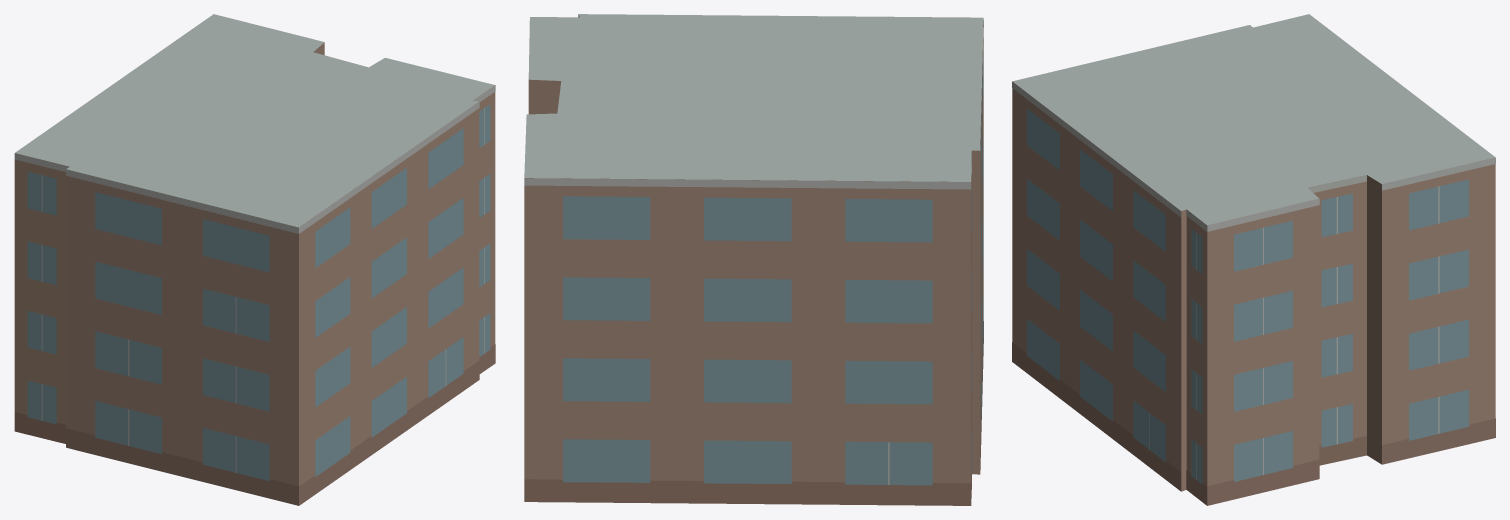
File: survey-upis-32714509.glb
3 views of the same model, side by side, from view 1: azimuth 30°, elevation 25°; view 2: azimuth 150°, elevation 25°; view 3: azimuth 270°, elevation 25° (orthographic). The views are drawn at different scales.
Visible parts, largest first — view 1: survey-upis-32714509.tmp; view 2: survey-upis-32714509.tmp; view 3: survey-upis-32714509.tmp.
Boxes of the visible parts, <box> form: survey-upis-32714509.tmp: <box>14,14,495,505</box>; survey-upis-32714509.tmp: <box>524,14,983,505</box>; survey-upis-32714509.tmp: <box>1012,14,1495,505</box>.
Size of the model in its own units: 16.99 by 10.5 by 16.42.
